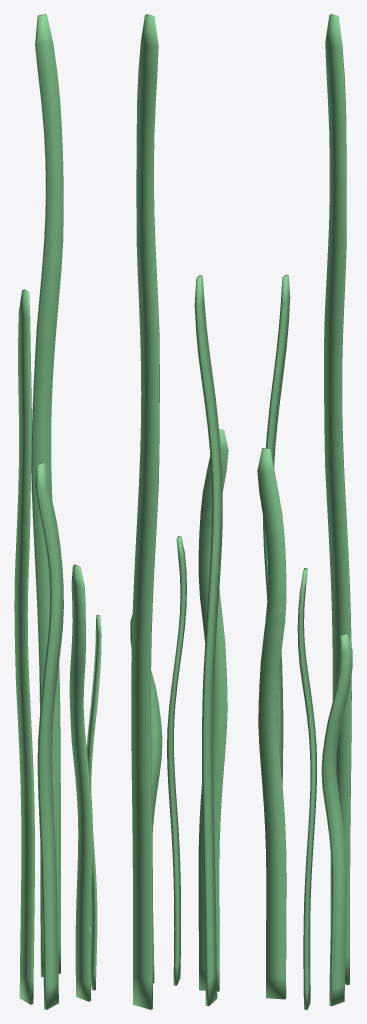
Rendered from Large5.fbx.
3 renders of one model, left to right at view 1: azimuth 30°, elevation 25°; view 2: azimuth 150°, elevation 25°; view 3: azimuth 330°, elevation 25°, orthographic. The views are drawn at different scales.
Parts seen in each view (by area): view 1: Large5_EXPORT; view 2: Large5_EXPORT; view 3: Large5_EXPORT.
Boxes of the visible parts, left/top/right/bottom form: Large5_EXPORT: left=14, top=14, right=101, bottom=1009; Large5_EXPORT: left=130, top=14, right=228, bottom=1009; Large5_EXPORT: left=257, top=14, right=352, bottom=1009.
Bounding box in the file's own units: 1.41 × 15.74 × 1.23.
